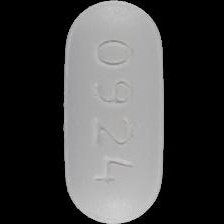63629-1345: (0, 0, 224, 224)
